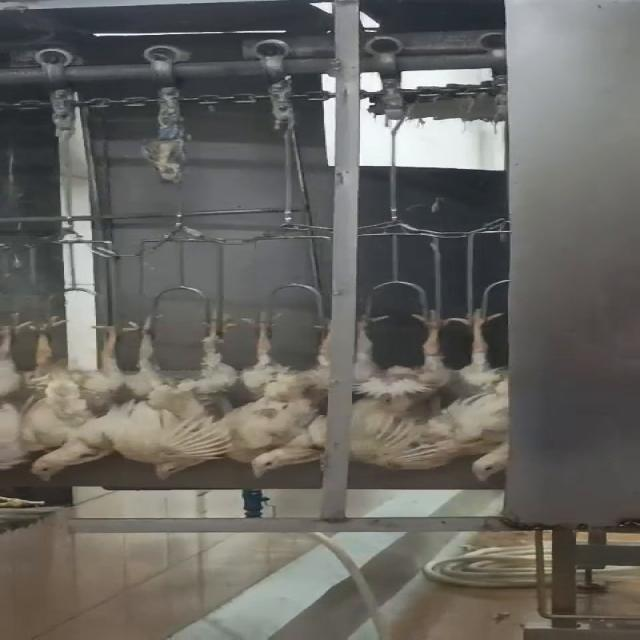chicken: (116, 309, 246, 483), (25, 313, 149, 484), (222, 306, 339, 477), (343, 304, 459, 472), (448, 300, 517, 486), (0, 317, 32, 478)
